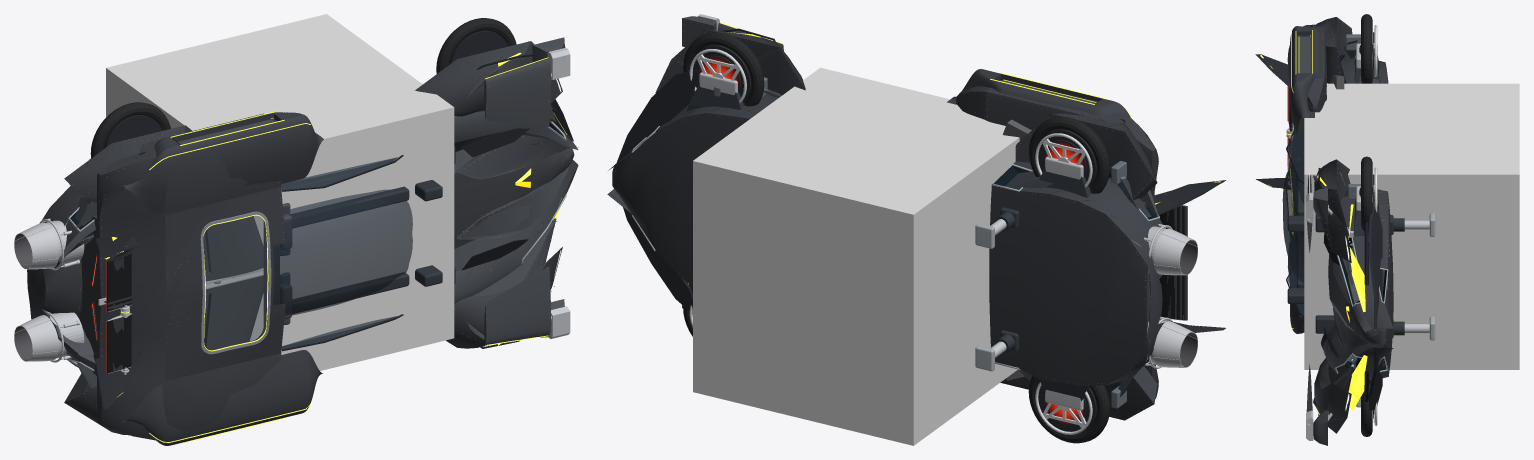
Rendered from phantom-a10-road-stance.glb.
The picture shows the model from 3 angles, left to right: view 1: azimuth 30°, elevation 25°; view 2: azimuth 150°, elevation 25°; view 3: azimuth 270°, elevation 25°; orthographic projection. The views are drawn at different scales.
Visible parts, largest first — view 1: PHANTOM_A8_INTEGRATED_DUCTED_FACETED_CFRP_HULL, Cube, VTX_VISUAL_WING_CASSETTE_COWLS, A10_SLEEVE_CARRY_THROUGH_BOX, PHANTOM_FRONT_RIGHT_WIDEBODY_ANGULAR_FENDER, A10_CANARD_L_ALL_MOVING_BLADE, A10_CANARD_R_ALL_MOVING_BLADE, A10_WING_L_PANEL_CFRP_TORSION_BOX, A10_WING_R_PANEL_CFRP_TORSION_BOX, PHANTOM_LEFT_SPEAR_BONNET_RIDGE, VTX_VISUAL_DRS_CARBON_BLADES, PHANTOM_RIGHT_SPEAR_BONNET_RIDGE (+22 smaller); view 2: Cube, PHANTOM_A8_INTEGRATED_DUCTED_FACETED_CFRP_HULL, PHANTOM_REAR_RIGHT_WIDEBODY_ANGULAR_FENDER, VTX_VISUAL_WING_CASSETTE_COWLS, PHANTOM_FRONT_RIGHT_WIDEBODY_ANGULAR_FENDER, PHANTOM_RIGHT_RAPTOR_NOSE_SPLITTER, WHEEL_RR_CLOSED_TYRE, WHEEL_FR_CLOSED_TYRE, VTX_VISUAL_DRS_CARBON_BLADES, PHANTOM_REAR_LEFT_WIDEBODY_ANGULAR_FENDER, WHEEL_RL_CLOSED_TYRE, PHANTOM_LEFT_RAPTOR_NOSE_SPLITTER (+7 smaller); view 3: Cube, PHANTOM_A8_INTEGRATED_DUCTED_FACETED_CFRP_HULL, VTX_VISUAL_WING_CASSETTE_COWLS, PHANTOM_FRONT_RIGHT_WIDEBODY_ANGULAR_FENDER, PHANTOM_FRONT_LEFT_WIDEBODY_ANGULAR_FENDER, PHANTOM_REAR_RIGHT_WIDEBODY_ANGULAR_FENDER, PHANTOM_RIGHT_RAPTOR_NOSE_SPLITTER, WHEEL_RR_CLOSED_TYRE, WHEEL_FR_CLOSED_TYRE, PHANTOM_LEFT_SPEAR_BONNET_RIDGE, PHANTOM_RIGHT_TRIANGULAR_COUPÉ_SIDEGLASS, PHANTOM_LEFT_NARROW_AMBER_BROW (+14 smaller).
Boxes of the visible parts, bbox=[...] form: PHANTOM_A8_INTEGRATED_DUCTED_FACETED_CFRP_HULL: bbox=[27, 111, 578, 440]; Cube: bbox=[106, 14, 454, 370]; VTX_VISUAL_WING_CASSETTE_COWLS: bbox=[123, 112, 323, 445]; A10_SLEEVE_CARRY_THROUGH_BOX: bbox=[204, 216, 262, 349]; PHANTOM_FRONT_RIGHT_WIDEBODY_ANGULAR_FENDER: bbox=[415, 41, 562, 116]; A10_CANARD_L_ALL_MOVING_BLADE: bbox=[484, 266, 550, 344]; A10_CANARD_R_ALL_MOVING_BLADE: bbox=[484, 58, 550, 126]; A10_WING_L_PANEL_CFRP_TORSION_BOX: bbox=[204, 275, 263, 350]; A10_WING_R_PANEL_CFRP_TORSION_BOX: bbox=[205, 216, 263, 281]; PHANTOM_LEFT_SPEAR_BONNET_RIDGE: bbox=[456, 166, 569, 239]; VTX_VISUAL_DRS_CARBON_BLADES: bbox=[106, 253, 131, 374]; PHANTOM_RIGHT_SPEAR_BONNET_RIDGE: bbox=[456, 135, 568, 179]; Cube: bbox=[693, 67, 1019, 445]; PHANTOM_A8_INTEGRATED_DUCTED_FACETED_CFRP_HULL: bbox=[607, 79, 1172, 398]; PHANTOM_REAR_RIGHT_WIDEBODY_ANGULAR_FENDER: bbox=[1015, 113, 1157, 202]; VTX_VISUAL_WING_CASSETTE_COWLS: bbox=[947, 69, 1130, 120]; PHANTOM_FRONT_RIGHT_WIDEBODY_ANGULAR_FENDER: bbox=[655, 29, 805, 95]; PHANTOM_RIGHT_RAPTOR_NOSE_SPLITTER: bbox=[616, 69, 700, 162]; WHEEL_RR_CLOSED_TYRE: bbox=[1028, 116, 1109, 193]; WHEEL_FR_CLOSED_TYRE: bbox=[683, 32, 764, 111]; VTX_VISUAL_DRS_CARBON_BLADES: bbox=[1159, 205, 1187, 320]; PHANTOM_REAR_LEFT_WIDEBODY_ANGULAR_FENDER: bbox=[1019, 366, 1157, 420]; WHEEL_RL_CLOSED_TYRE: bbox=[1028, 375, 1109, 443]; PHANTOM_LEFT_RAPTOR_NOSE_SPLITTER: bbox=[623, 207, 692, 313]; Cube: bbox=[1304, 83, 1519, 369]; PHANTOM_A8_INTEGRATED_DUCTED_FACETED_CFRP_HULL: bbox=[1282, 24, 1393, 379]; VTX_VISUAL_WING_CASSETTE_COWLS: bbox=[1290, 26, 1320, 333]; PHANTOM_FRONT_RIGHT_WIDEBODY_ANGULAR_FENDER: bbox=[1314, 159, 1351, 262]; PHANTOM_FRONT_LEFT_WIDEBODY_ANGULAR_FENDER: bbox=[1314, 354, 1351, 433]; PHANTOM_REAR_RIGHT_WIDEBODY_ANGULAR_FENDER: bbox=[1314, 17, 1354, 83]; PHANTOM_RIGHT_RAPTOR_NOSE_SPLITTER: bbox=[1368, 199, 1382, 328]; WHEEL_RR_CLOSED_TYRE: bbox=[1361, 14, 1372, 83]; WHEEL_FR_CLOSED_TYRE: bbox=[1361, 156, 1372, 231]; PHANTOM_LEFT_SPEAR_BONNET_RIDGE: bbox=[1333, 306, 1370, 354]; PHANTOM_RIGHT_TRIANGULAR_COUPÉ_SIDEGLASS: bbox=[1288, 130, 1304, 181]; PHANTOM_LEFT_NARROW_AMBER_BROW: bbox=[1348, 355, 1367, 410].
Bounding box in the file's own units: 5.09 × 2.8 × 2.46.
Materials: 45 (5 with a texture image).
